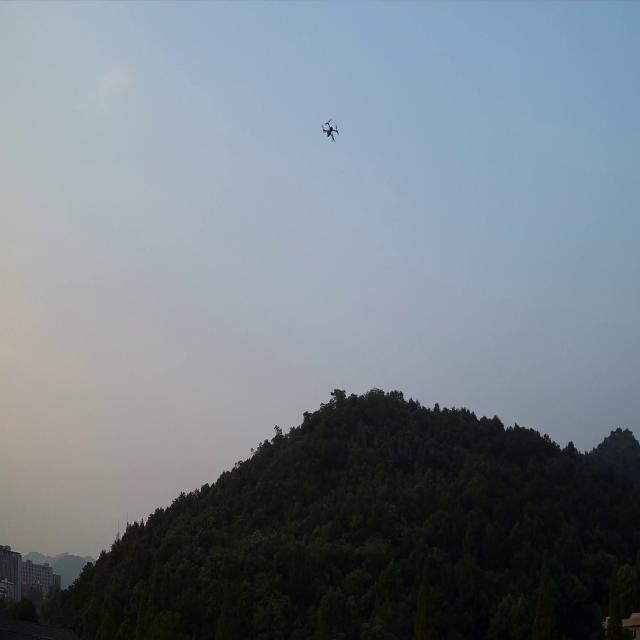UAV: (320, 116, 340, 144)
